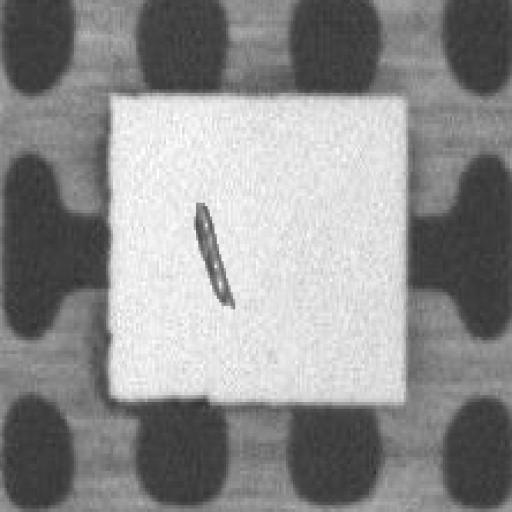DIE_INK: (189, 196, 231, 306)
